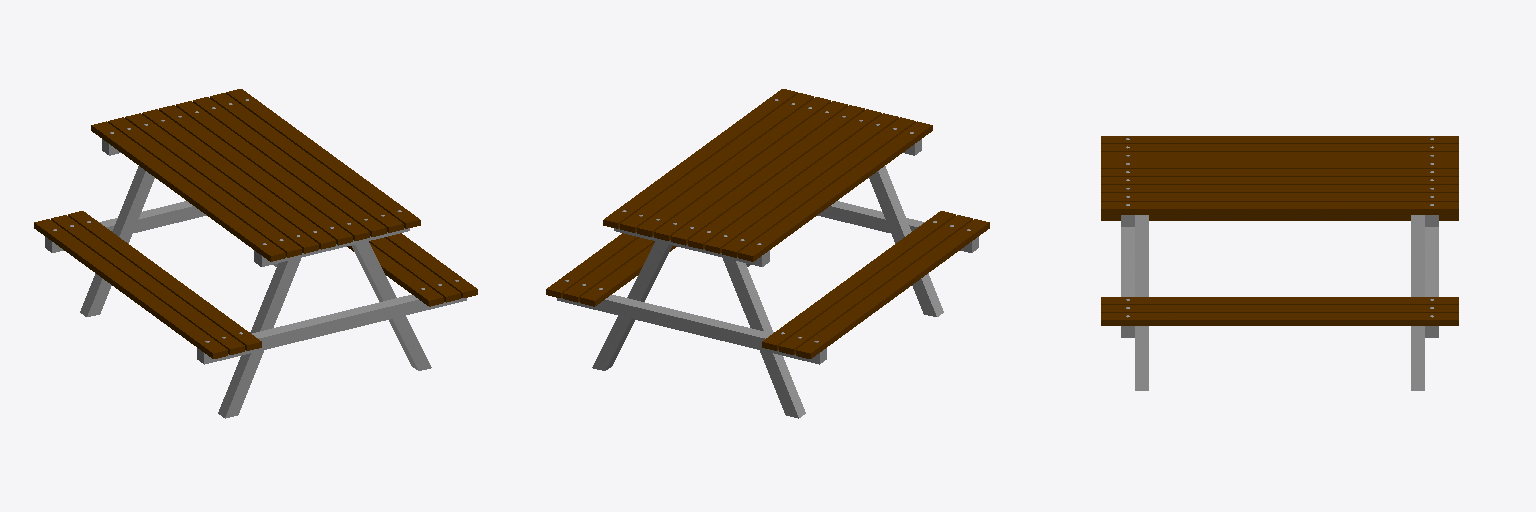
The picture shows the model from 3 angles: view 1: azimuth 30°, elevation 25°; view 2: azimuth 150°, elevation 25°; view 3: azimuth 270°, elevation 25°; orthographic projection.
Parts seen in each view (by area): view 1: Box001, Box007, Box006, Box004, LegSlant2, Box008, LegSlant4, Box005, Box002; view 2: Box001, Box007, Box006, Box005, Box008, LegSlant2, LegSlant3, Box004, Box003; view 3: Box001, Box006, LegSlant3, LegSlant4, Box007, Box004, Box005.
Part boxes in pixels (left/top/right/bottom): Box001: left=91, top=89, right=420, bottom=261; Box007: left=34, top=211, right=261, bottom=358; Box006: left=347, top=233, right=477, bottom=306; Box004: left=197, top=295, right=466, bottom=364; LegSlant2: left=218, top=258, right=300, bottom=418; Box008: left=80, top=166, right=154, bottom=316; LegSlant4: left=351, top=241, right=431, bottom=370; Box005: left=45, top=201, right=206, bottom=252; Box002: left=254, top=228, right=409, bottom=266; Box001: left=603, top=89, right=932, bottom=261; Box007: left=762, top=211, right=989, bottom=358; Box006: left=546, top=233, right=676, bottom=306; Box005: left=557, top=295, right=826, bottom=364; Box008: left=723, top=258, right=805, bottom=418; LegSlant2: left=869, top=166, right=943, bottom=316; LegSlant3: left=592, top=241, right=672, bottom=370; Box004: left=817, top=201, right=978, bottom=252; Box003: left=614, top=228, right=769, bottom=266; Box001: left=1101, top=136, right=1458, bottom=214; Box006: left=1101, top=297, right=1458, bottom=325; LegSlant3: left=1411, top=215, right=1424, bottom=390; LegSlant4: left=1135, top=215, right=1148, bottom=390; Box007: left=1101, top=215, right=1458, bottom=220; Box004: left=1121, top=227, right=1134, bottom=337; Box005: left=1425, top=227, right=1438, bottom=337.
Size of the model in its own units: 141 by 85.89 by 166.
Materials: 2 (2 with a texture image).